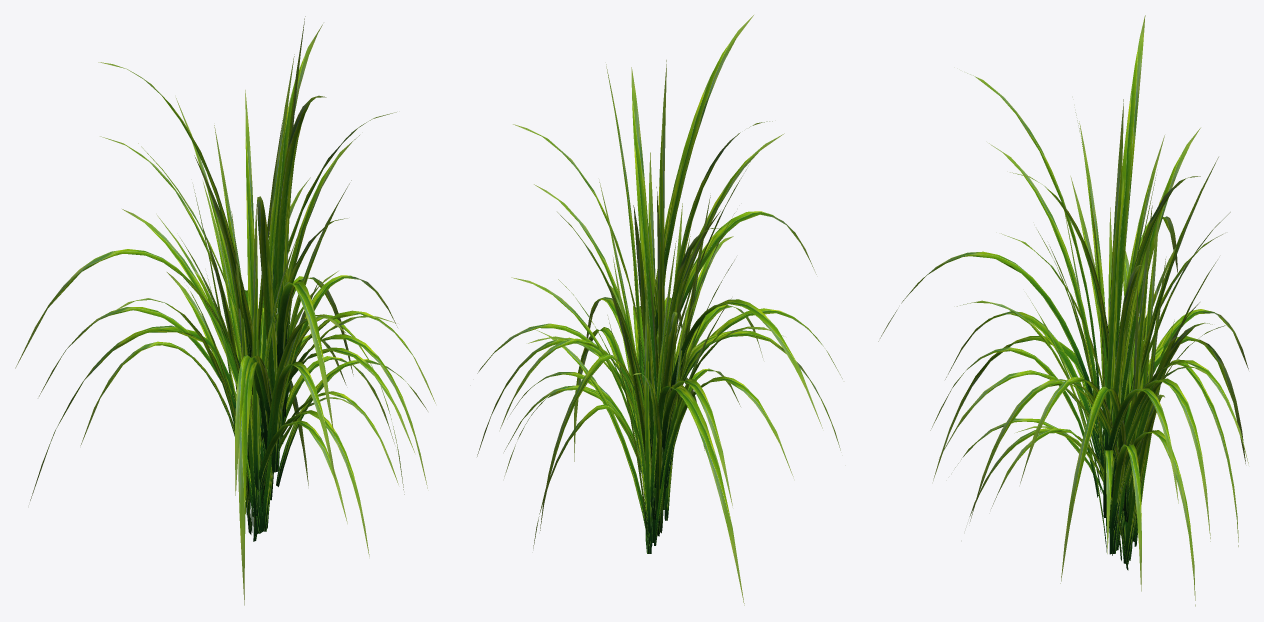
File: Lehtipuska.fbx
3 views of the same model, side by side, from view 1: azimuth 30°, elevation 25°; view 2: azimuth 150°, elevation 25°; view 3: azimuth 270°, elevation 25° (orthographic). The views are drawn at different scales.
Visible parts, largest first — view 1: Lehtipuska; view 2: Lehtipuska; view 3: Lehtipuska.
Part boxes in pixels (x1,y1,x2,y2): Lehtipuska: [15, 16, 435, 605]; Lehtipuska: [477, 15, 842, 605]; Lehtipuska: [878, 15, 1248, 606].
Bounding box in the file's own units: 154 × 197 × 135.
